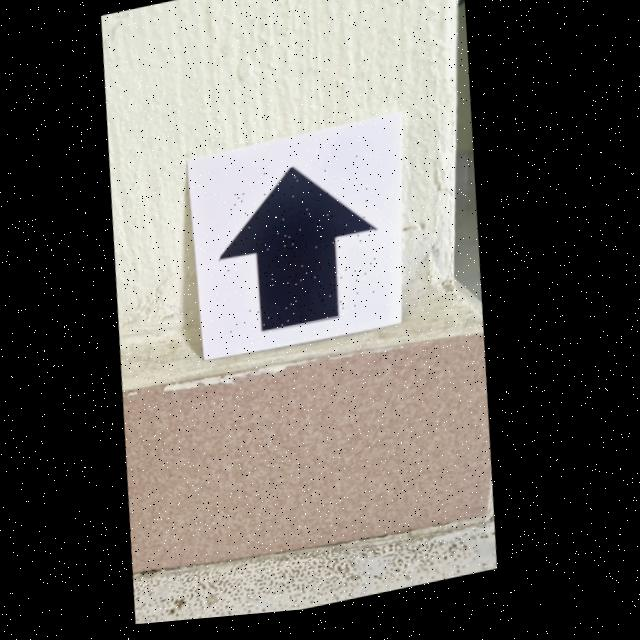UP: (225, 173, 378, 336)
